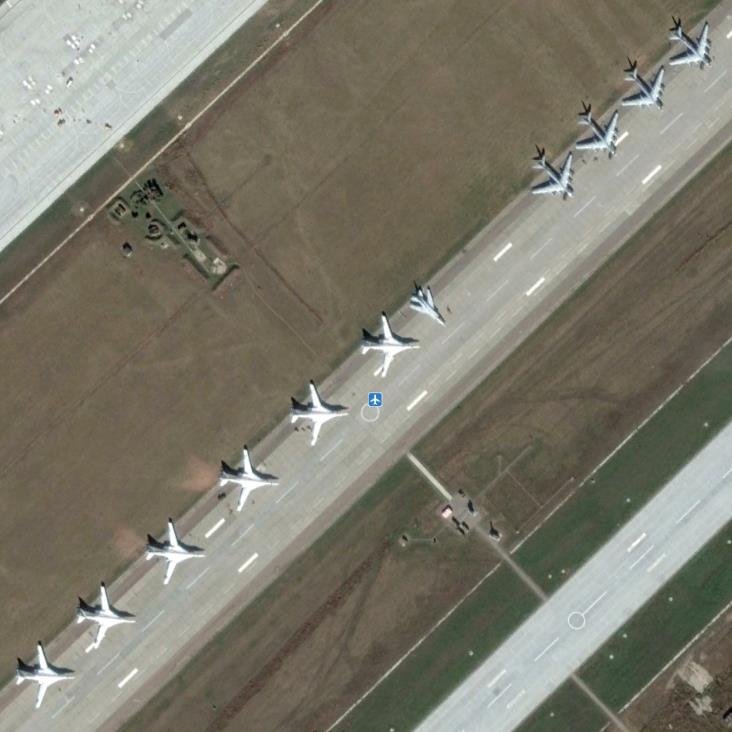A12: (408, 283, 446, 328)
A17: (666, 18, 717, 71), (527, 150, 577, 202), (575, 108, 621, 160), (620, 63, 666, 113)
A6: (73, 584, 141, 654), (286, 381, 353, 448), (217, 447, 283, 515), (143, 519, 208, 588), (358, 311, 421, 379), (15, 641, 76, 710)
